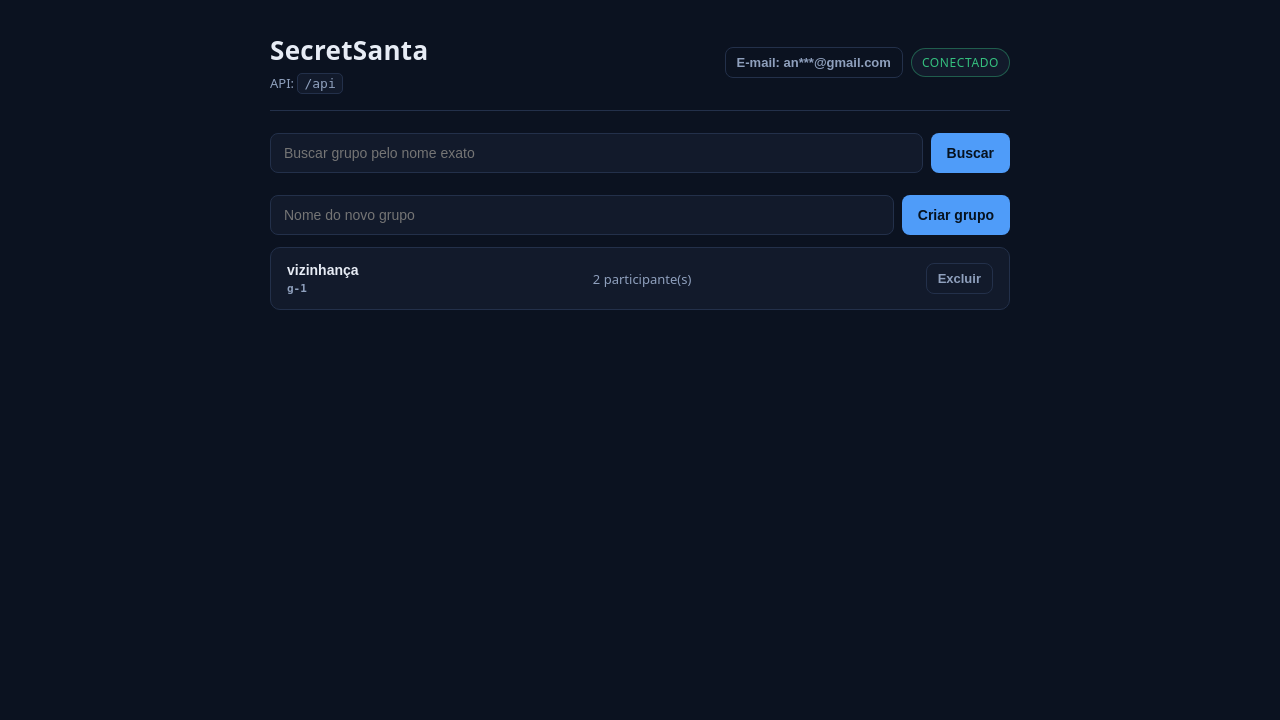
it: configuracao do envio de e-mail › o botao Ajuda mostra o passo a passo da senha de app
Click the button "E-mail: an***@gmail.com".
click(814, 62)  # box left=725, top=46, right=903, bottom=78
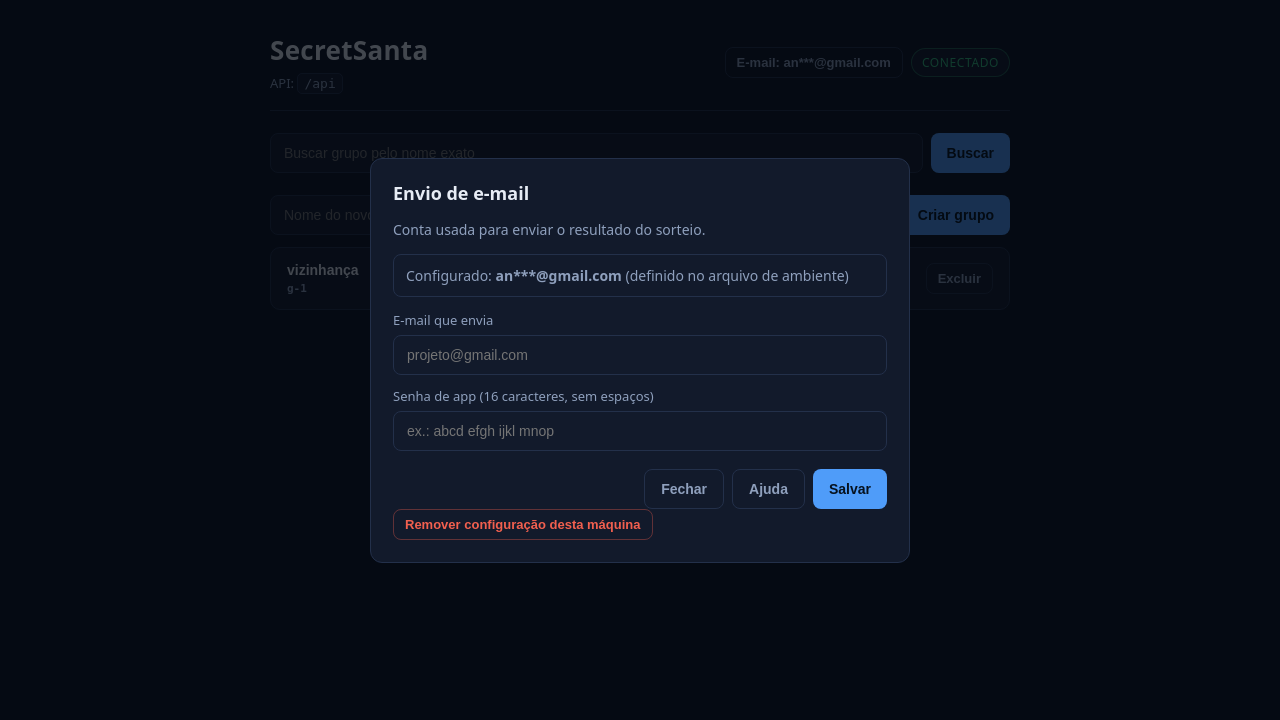
Now the heading "Envio de e-mail" is shown, box left=393, top=180, right=529, bottom=204
Click the button "Ajuda".
click(769, 488)  # box left=732, top=468, right=805, bottom=508
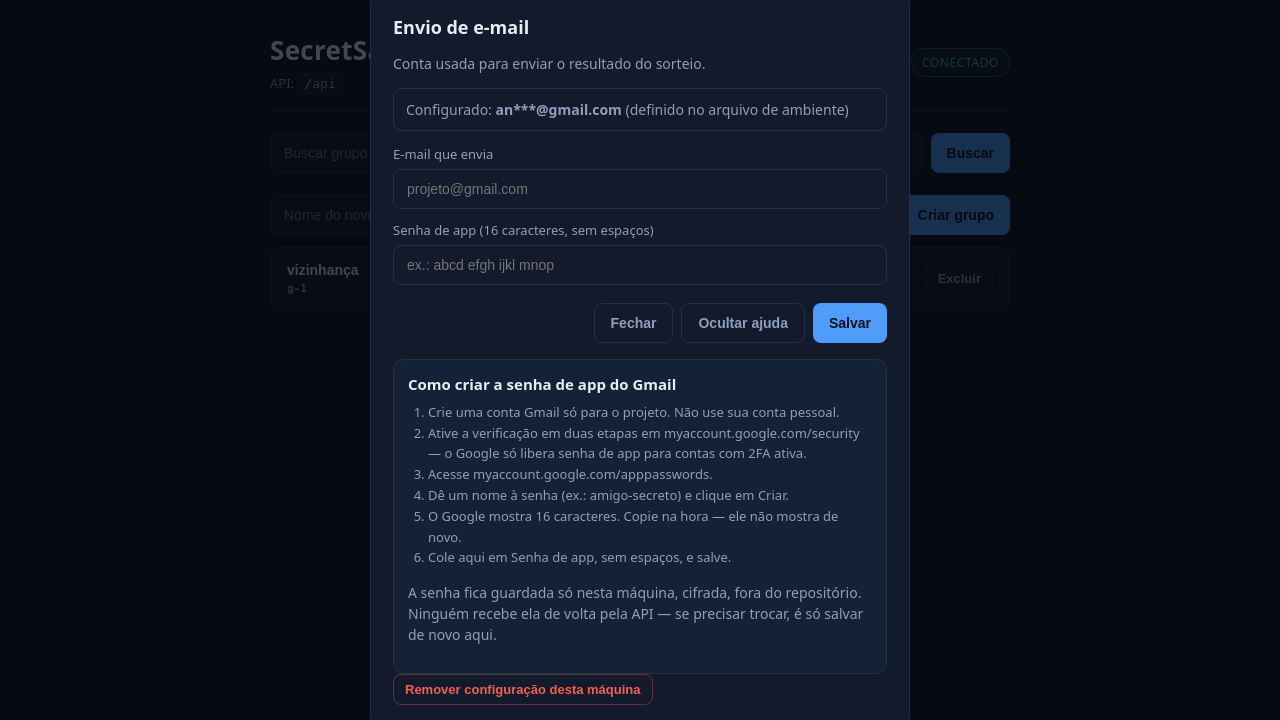
Now the heading "Como criar a senha de app do Gmail" is shown, box left=408, top=374, right=676, bottom=394
Now the list item "Acesse myaccount.google.com/apppasswords." is shown, box left=428, top=465, right=713, bottom=483
